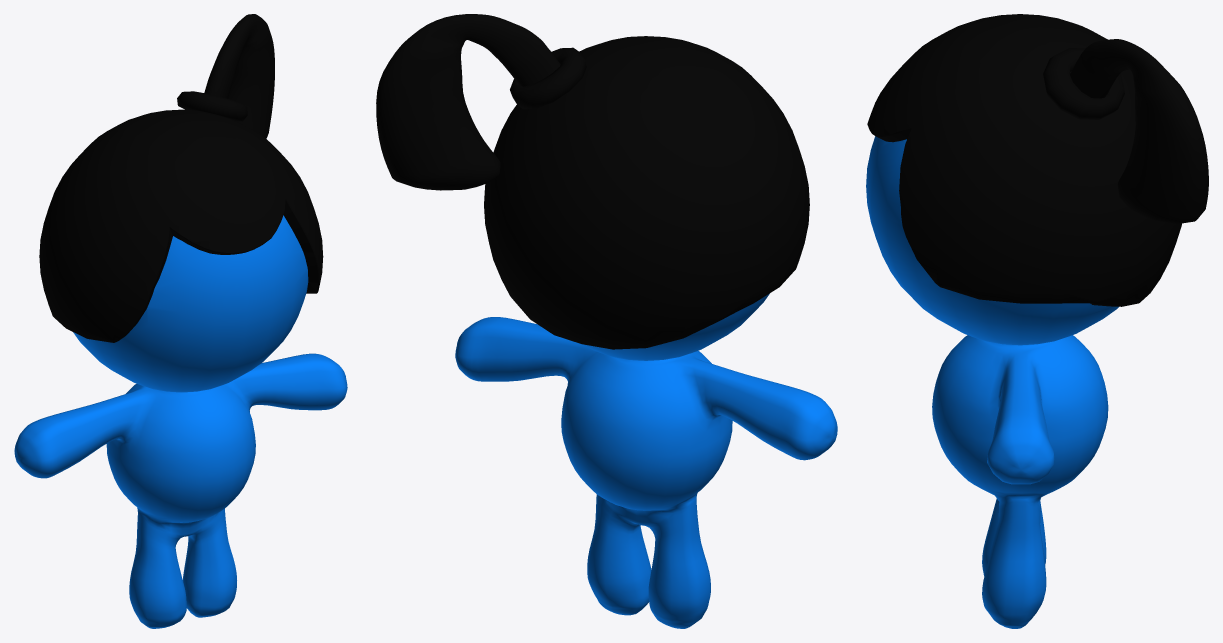
Rendered from shiroman.glb.
The picture shows the model from 3 angles, left to right: view 1: azimuth 30°, elevation 25°; view 2: azimuth 150°, elevation 25°; view 3: azimuth 270°, elevation 25°; orthographic projection. The views are drawn at different scales.
Parts seen in each view (by area): view 1: Sphere013; view 2: Sphere013; view 3: Sphere013.
Part boxes in pixels (left/top/right/bottom): Sphere013: left=14, top=14, right=347, bottom=628; Sphere013: left=376, top=14, right=837, bottom=628; Sphere013: left=866, top=14, right=1208, bottom=628.
Size of the model in its own units: 0.4743 by 0.7489 by 0.37.
